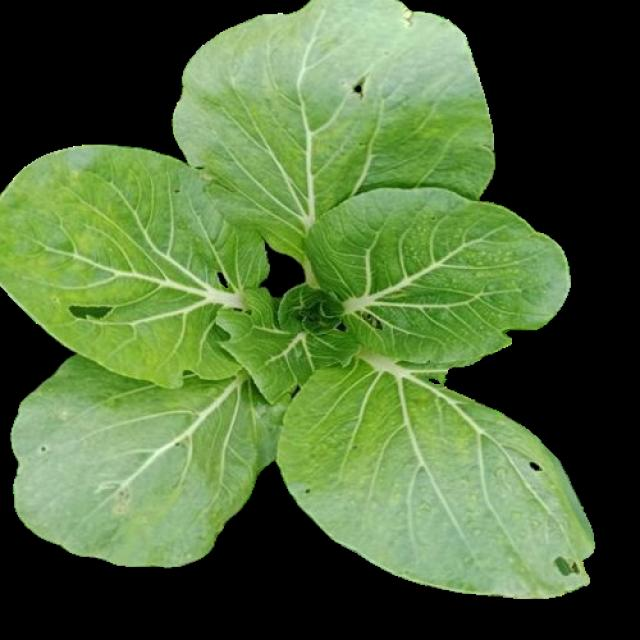mature: (1, 1, 595, 593)
unhealthy: (282, 350, 594, 592), (173, 4, 497, 226), (3, 148, 270, 386), (14, 352, 271, 570), (307, 187, 572, 371)
